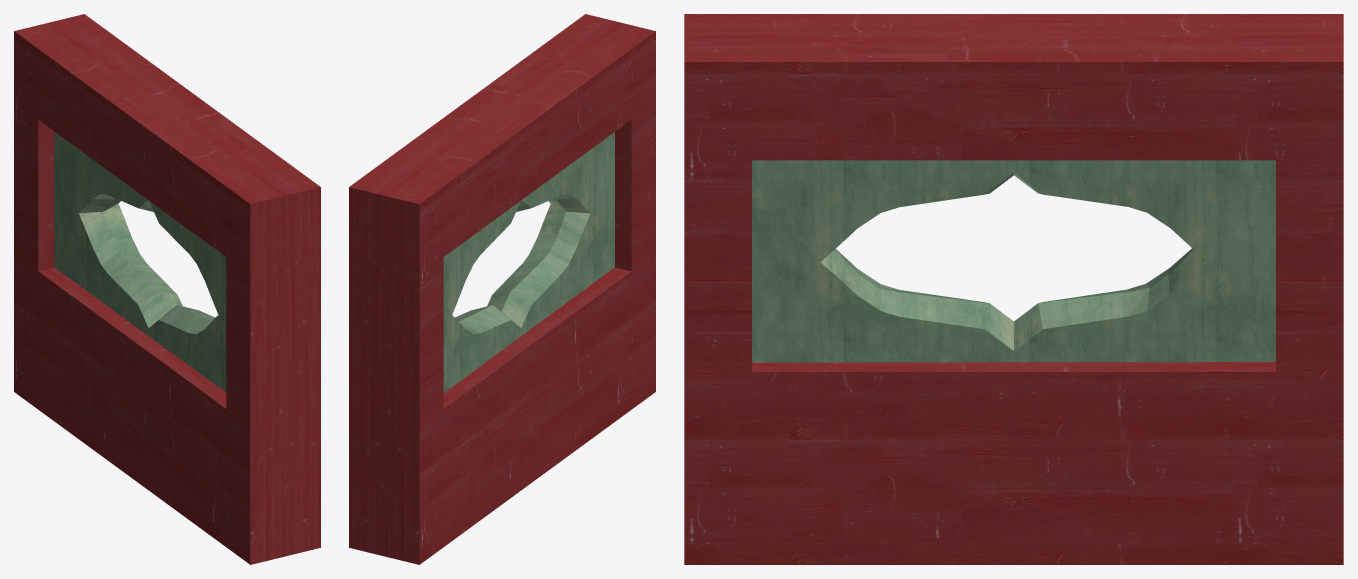
The model's file is SM_M_Handrail_1.fbx.
The picture shows the model from 3 angles, left to right: view 1: azimuth 30°, elevation 25°; view 2: azimuth 150°, elevation 25°; view 3: azimuth 270°, elevation 25°; orthographic projection. The views are drawn at different scales.
Visible parts, largest first — view 1: SM_M_Handrail_1; view 2: SM_M_Handrail_1; view 3: SM_M_Handrail_1.
Part boxes in pixels (x1=…): SM_M_Handrail_1: x1=14, y1=14, x2=320, y2=564; SM_M_Handrail_1: x1=349, y1=14, x2=655, y2=564; SM_M_Handrail_1: x1=684, y1=14, x2=1343, y2=564.
Bounding box in the file's own units: 11.65 × 67.72 × 57.
2 materials, 2 textured.
